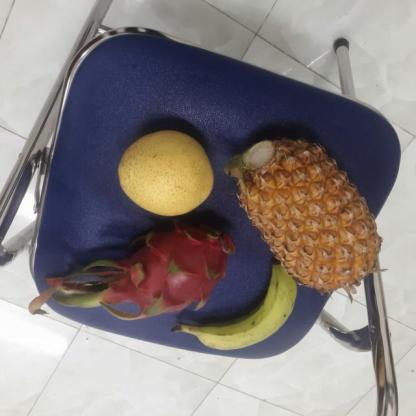banana: (185, 256, 300, 350)
pear: (116, 127, 218, 214)
pineapple: (227, 133, 380, 289)
pitaya: (107, 215, 237, 318)
